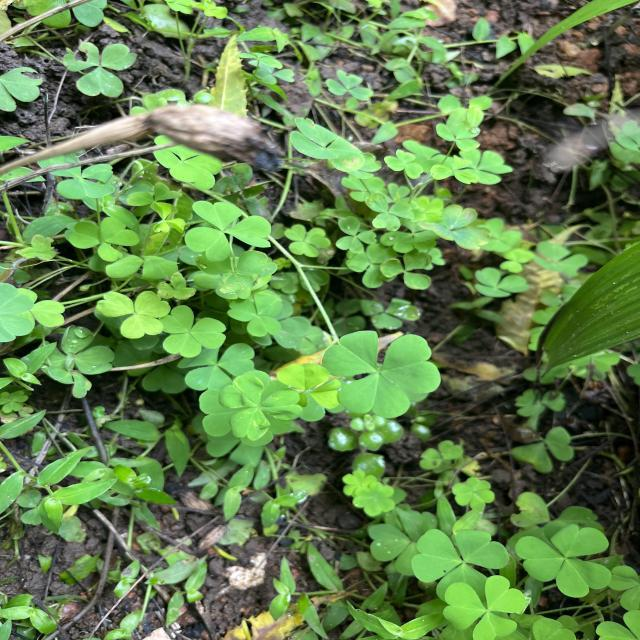Oxalis corniculata: (323, 330, 443, 420), (514, 522, 614, 599), (218, 374, 304, 442), (443, 574, 529, 640), (411, 528, 510, 584), (185, 200, 272, 262), (290, 115, 367, 174), (62, 41, 137, 98), (158, 304, 228, 359), (96, 290, 172, 340), (69, 216, 141, 262), (227, 293, 282, 338), (364, 192, 414, 232)
